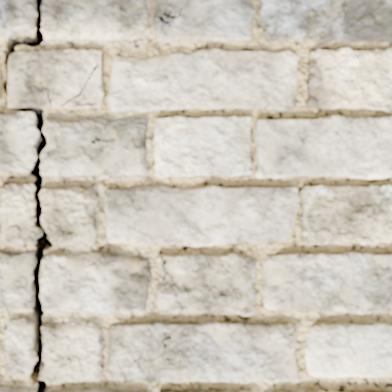brick: (104, 184, 391, 245), (107, 320, 299, 382), (108, 49, 296, 111), (254, 115, 391, 178), (262, 252, 391, 312), (155, 253, 255, 314), (154, 117, 251, 177), (260, 0, 391, 43), (9, 49, 100, 107), (306, 49, 391, 110), (305, 321, 391, 377), (153, 0, 253, 41), (69, 67, 103, 108), (156, 0, 186, 14), (160, 389, 251, 391), (157, 257, 162, 286), (279, 389, 307, 391)
broken_brick: (41, 250, 152, 313), (41, 116, 149, 177), (42, 0, 148, 40), (41, 319, 102, 384), (42, 186, 97, 247), (0, 183, 38, 244), (0, 111, 36, 173), (0, 250, 34, 309), (2, 316, 35, 376), (0, 0, 34, 38), (48, 388, 147, 391), (0, 384, 35, 391)
crack: (2, 0, 55, 391), (59, 62, 99, 108), (154, 0, 189, 27), (158, 255, 182, 292), (38, 81, 52, 107), (305, 0, 320, 18), (248, 165, 253, 175), (386, 298, 391, 304)
